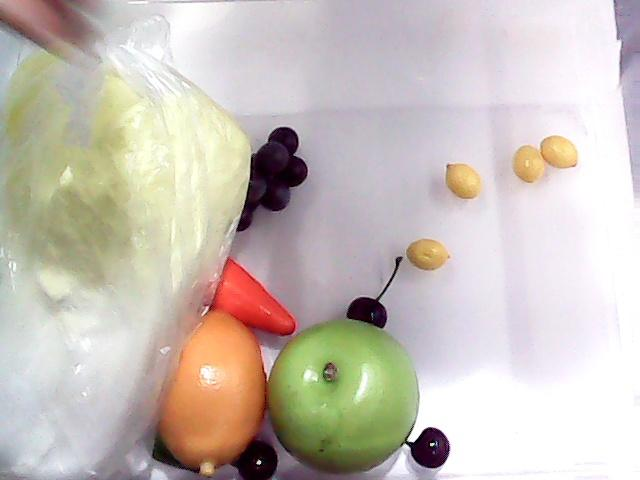apple: (259, 305, 431, 475)
carrot: (206, 256, 300, 338)
grape: (242, 128, 318, 220)
lemon: (157, 307, 285, 480)
napa cabbage: (0, 32, 244, 476)
